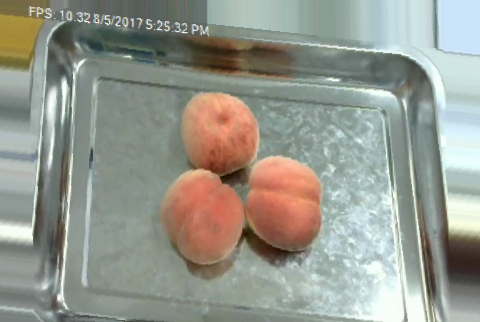Peach: (158, 168, 244, 265), (246, 155, 322, 250), (182, 91, 257, 174)
